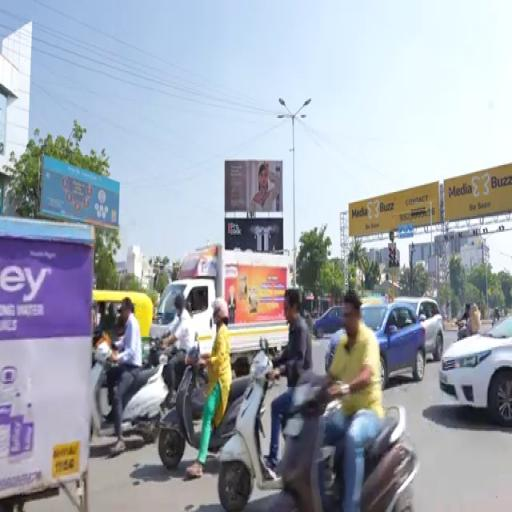Car: (440, 316, 511, 428), (361, 303, 426, 388), (395, 296, 443, 362), (313, 306, 343, 338)
